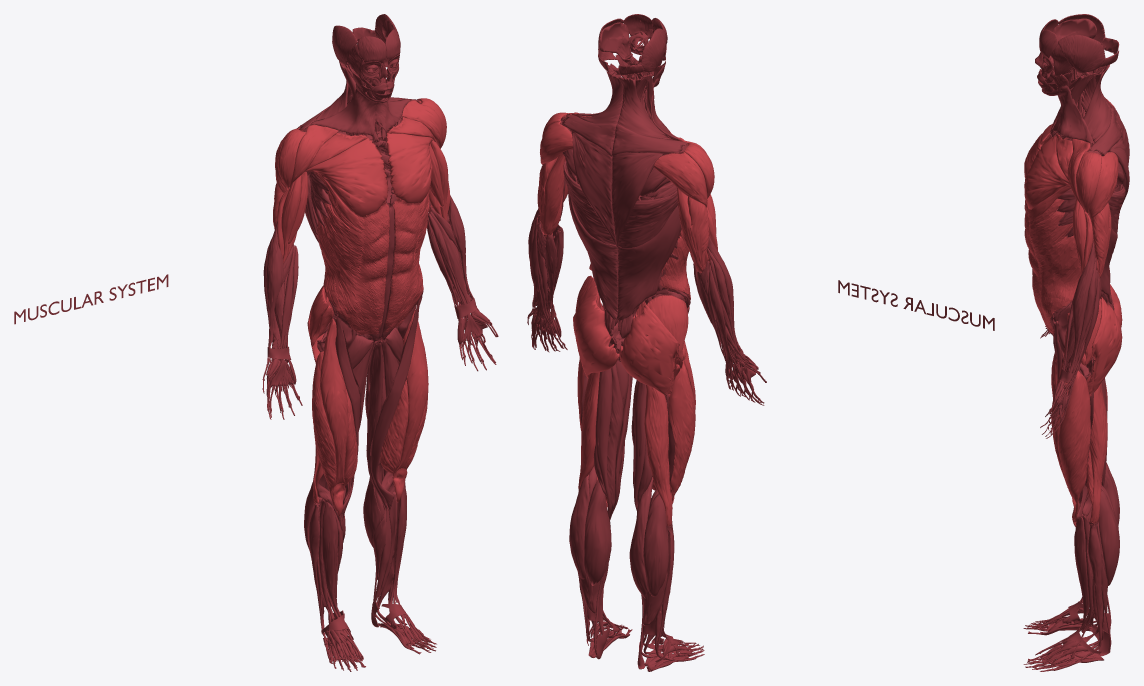
The model's file is human-muscles.glb.
3 renders of one model, left to right at view 1: azimuth 30°, elevation 25°; view 2: azimuth 150°, elevation 25°; view 3: azimuth 270°, elevation 25°, orthographic.
Parts seen in each view (by area): view 1: abs__External abdominal oblique muscle.r, chest__Sternocostal head of pectoralis major muscle.r, abs__External abdominal oblique muscle.l, thigh__Rectus femoris muscle.r, chest__Sternocostal head of pectoralis major muscle.l, thigh__Rectus femoris muscle.l, body__Sartorius muscle.l, thigh__Vastus lateralis muscle.r, body__Platysma.r, thigh__Vastus medialis muscle.l, body__Gracilis muscle.l, body__Tibialis anterior muscle.r (+17 smaller); view 2: body__Latissimus dorsi muscle.r, glutes__Gluteus maximus muscle.r, body__Latissimus dorsi muscle.l, body__Descending part of trapezius muscle.l, thigh__Long head of biceps femoris.r, body__Descending part of trapezius muscle.r, glutes__Gluteus maximus muscle.l, thigh__Vastus lateralis muscle.r, body__Medial head of gastrocnemius.l, body__Lateral head of gastrocnemius.r, shoulder__Scapular spinal part of deltoid muscle.r, body__Semitendinosus muscle.l (+21 smaller); view 3: abs__External abdominal oblique muscle.l, thigh__Vastus lateralis muscle.l, chest__Sternocostal head of pectoralis major muscle.l, glutes__Gluteus maximus muscle.l, thigh__Long head of biceps femoris.l, body__Temporoparietalis muscle.l, body__Lateral head of gastrocnemius.l, body__Platysma.l, body__Brachioradialis muscle.l, shoulder__Acromial part of deltoid muscle.l, shoulder__Scapular spinal part of deltoid muscle.l, body__Ascending part of trapezius muscle.l (+44 smaller).
Part boxes in pixels (box(x1,y1,x2,y2)): abs__External abdominal oblique muscle.r: box(317, 191, 389, 334); chest__Sternocostal head of pectoralis major muscle.r: box(304, 138, 388, 216); abs__External abdominal oblique muscle.l: box(384, 196, 429, 332); thigh__Rectus femoris muscle.r: box(320, 318, 348, 516); chest__Sternocostal head of pectoralis major muscle.l: box(386, 133, 432, 203); thigh__Rectus femoris muscle.l: box(392, 310, 428, 502); body__Sartorius muscle.l: box(371, 296, 422, 509); thigh__Vastus lateralis muscle.r: box(312, 351, 336, 510); body__Platysma.r: box(311, 83, 385, 136); thigh__Vastus medialis muscle.l: box(380, 380, 408, 490); body__Gracilis muscle.l: box(366, 341, 387, 510); body__Tibialis anterior muscle.r: box(322, 502, 353, 639); body__Latissimus dorsi muscle.r: box(617, 190, 681, 320); glutes__Gluteus maximus muscle.r: box(619, 304, 679, 397); body__Latissimus dorsi muscle.l: box(563, 161, 618, 319); body__Descending part of trapezius muscle.l: box(571, 130, 617, 247); thigh__Long head of biceps femoris.r: box(644, 385, 672, 526); body__Descending part of trapezius muscle.r: box(612, 152, 668, 247); glutes__Gluteus maximus muscle.l: box(573, 292, 619, 378); thigh__Vastus lateralis muscle.r: box(668, 360, 695, 501); body__Medial head of gastrocnemius.l: box(584, 479, 611, 585); body__Lateral head of gastrocnemius.r: box(643, 493, 668, 596); shoulder__Scapular spinal part of deltoid muscle.r: box(654, 151, 707, 207); body__Semitendinosus muscle.l: box(595, 368, 612, 516); abs__External abdominal oblique muscle.l: box(1024, 198, 1081, 333); thigh__Vastus lateralis muscle.l: box(1058, 370, 1090, 522); chest__Sternocostal head of pectoralis major muscle.l: box(1024, 136, 1069, 209); glutes__Gluteus maximus muscle.l: box(1086, 297, 1122, 396); thigh__Long head of biceps femoris.l: box(1089, 382, 1107, 524); body__Temporoparietalis muscle.l: box(1058, 34, 1105, 72); body__Lateral head of gastrocnemius.l: box(1098, 489, 1119, 585); body__Platysma.l: box(1042, 85, 1092, 144); body__Brachioradialis muscle.l: box(1069, 238, 1095, 373); shoulder__Acromial part of deltoid muscle.l: box(1076, 151, 1101, 213); shoulder__Scapular spinal part of deltoid muscle.l: box(1088, 152, 1118, 220); body__Ascending part of trapezius muscle.l: box(1083, 65, 1111, 142).
Bounding box in the file's own units: 1.33 × 1.67 × 0.2586.
